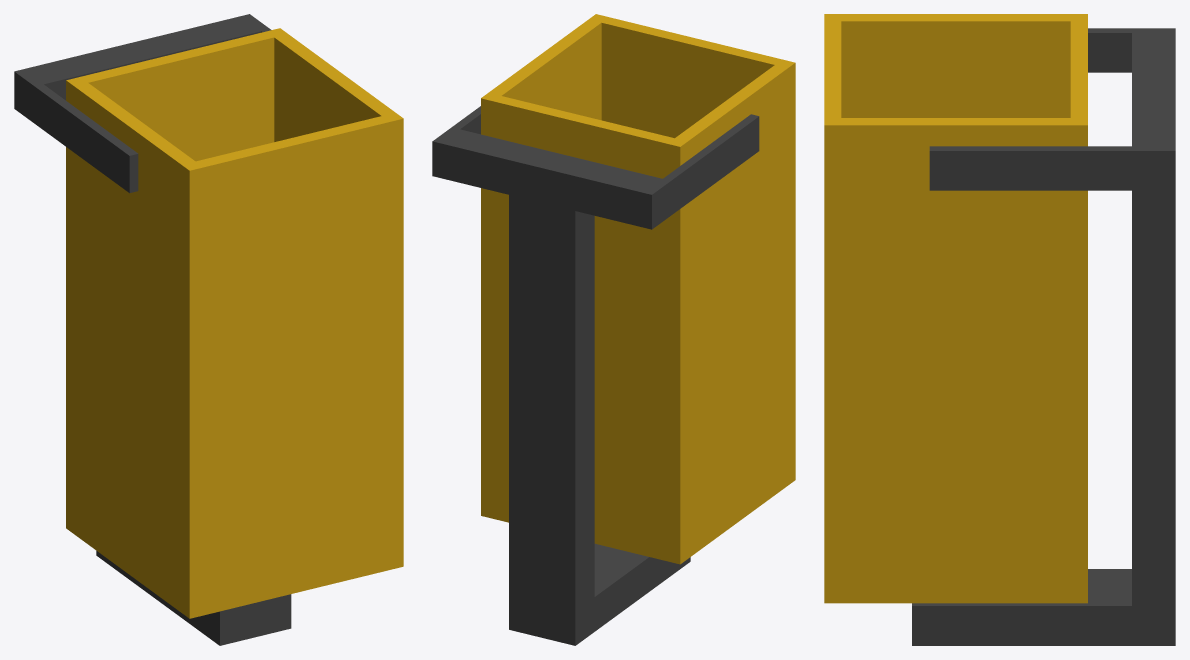
Rendered from Trash.fbx.
The picture shows the model from 3 angles, left to right: view 1: azimuth 30°, elevation 25°; view 2: azimuth 150°, elevation 25°; view 3: azimuth 270°, elevation 25°; orthographic projection. The views are drawn at different scales.
Visible parts, largest first — view 1: Trash; view 2: Trash; view 3: Trash.
Boxes of the visible parts, bbox=[...] form: Trash: bbox=[14, 14, 403, 645]; Trash: bbox=[432, 14, 795, 645]; Trash: bbox=[824, 14, 1175, 645].
Size of the model in its own units: 33 by 70 by 40.
